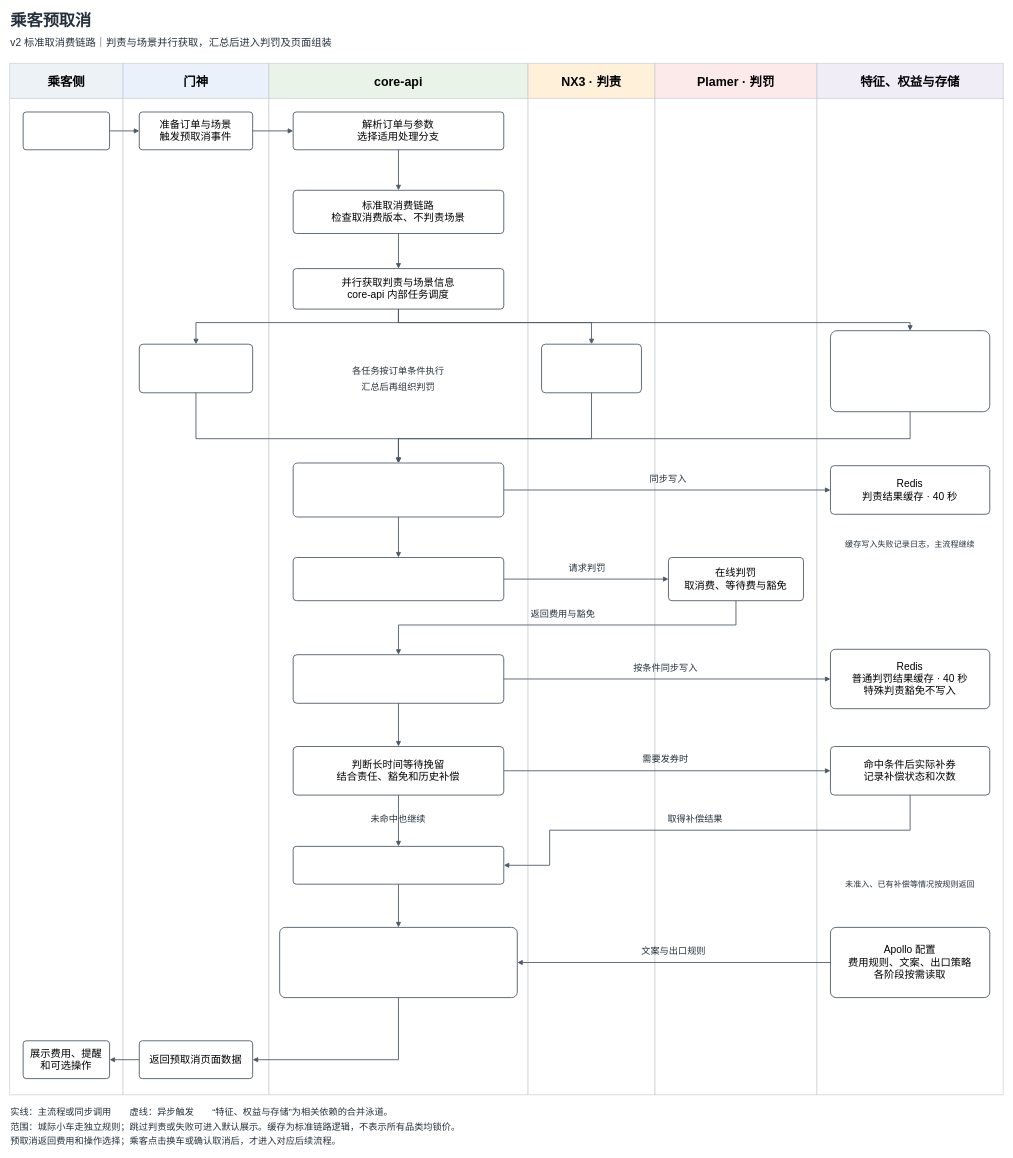
The diagram is 1013 pixels wide and 1158 high, and some of its shapes have lost their labels. Each missing label, with the centre of its shape:
"乘客点击取消 发起预取消" belongs at pixel 66 130.
"保存适用判罚结果 分别处理取消费、等待费 及相应减免" belongs at pixel 398 678.
"在线判责 乘客责任、原因 及干预信息" belongs at pixel 591 368.
"形成责任、费用及场景结果 交给页面组装" belongs at pixel 398 865.
"按场景查询 会员权益、等待服务状态 迟到、天气、排队、风险 取消特征、补偿场景等" belongs at pixel 910 371.
"查询取消拦截 取得高频取消等提醒" belongs at pixel 196 368.
"汇总责任与场景 处理连续改派、拒载等信息 保存判责结果" belongs at pixel 398 489.
"组织判罚信息 责任、原因、会员及场景" belongs at pixel 398 579.
"组装预取消页面（View） 基础文案 → 拦截提醒 → 会员权益 匹配场景出口 补充或替换标题、卡片、按钮" belongs at pixel 398 962.
